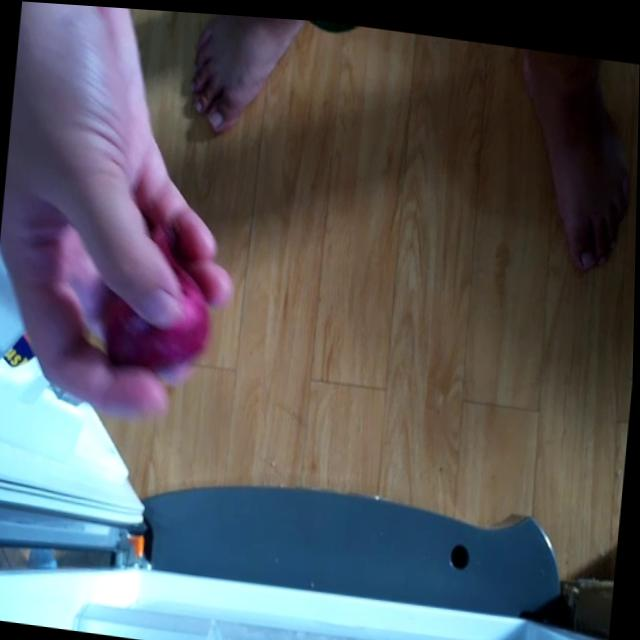onion: (91, 211, 223, 420)
